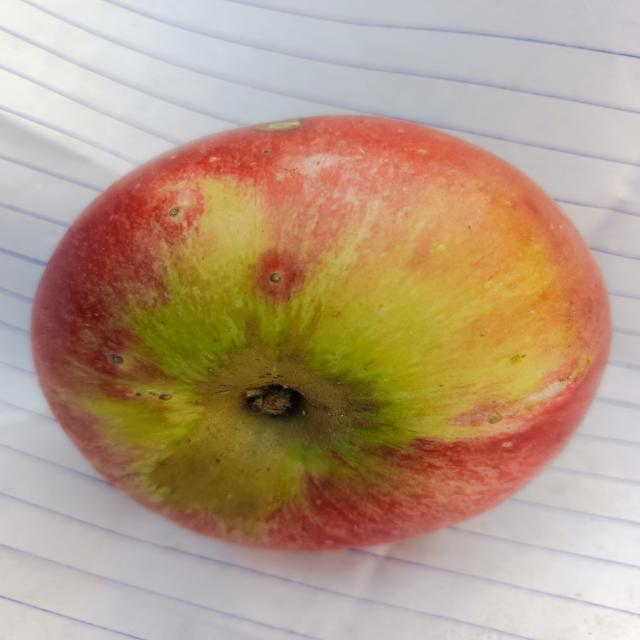Fresh Apple: (29, 109, 611, 542)
